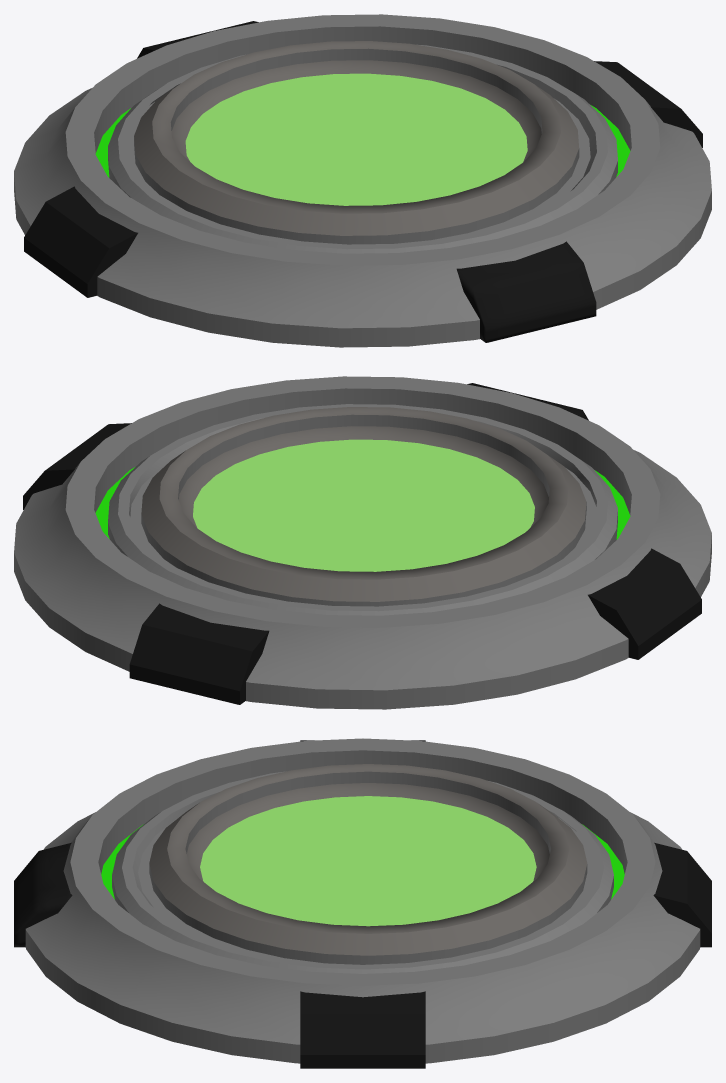
Rendered from JumpPad.fbx.
The picture shows the model from 3 angles, top to bottom: view 1: azimuth 30°, elevation 25°; view 2: azimuth 150°, elevation 25°; view 3: azimuth 270°, elevation 25°; orthographic projection.
Parts seen in each view (by area): view 1: Circle, Circle.003, Circle.002, Cube.002, Cube.001, Cube, Circle.001; view 2: Circle, Circle.003, Circle.002, Cube.003, Cube.001, Cube, Circle.001; view 3: Circle, Circle.003, Circle.002, Cube, Cube.002, Cube.003, Circle.001.
Part boxes in pixels (left/top/right/bottom): Circle: left=14, top=14, right=711, bottom=347; Circle.003: left=185, top=73, right=527, bottom=205; Circle.002: left=134, top=41, right=578, bottom=235; Cube.002: left=456, top=241, right=596, bottom=342; Cube.001: left=24, top=186, right=137, bottom=297; Cube: left=594, top=61, right=702, bottom=147; Circle.001: left=95, top=105, right=630, bottom=177; Circle: left=14, top=376, right=711, bottom=709; Circle.003: left=193, top=439, right=534, bottom=571; Circle.002: left=141, top=407, right=586, bottom=601; Cube.003: left=129, top=603, right=269, bottom=704; Cube.001: left=588, top=548, right=701, bottom=659; Cube: left=23, top=423, right=131, bottom=509; Circle.001: left=95, top=467, right=630, bottom=539; Circle: left=25, top=738, right=700, bottom=1063; Circle.003: left=200, top=796, right=536, bottom=926; Circle.002: left=149, top=764, right=587, bottom=955; Cube: left=300, top=991, right=425, bottom=1068; Cube.002: left=14, top=842, right=72, bottom=947; Cube.003: left=653, top=842, right=711, bottom=947; Circle.001: left=101, top=824, right=624, bottom=899.
Size of the model in its own units: 203 by 203 by 22.59.
